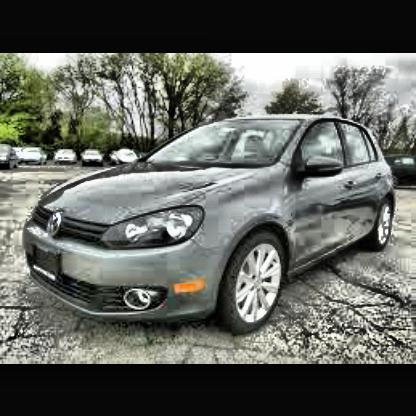Volkswagen Golf Hatchback 2012: (19, 109, 396, 351)
